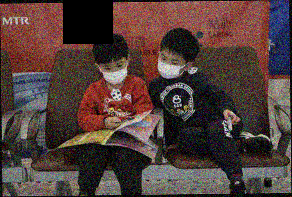with_mask: (100, 59, 129, 86), (157, 52, 186, 79)
